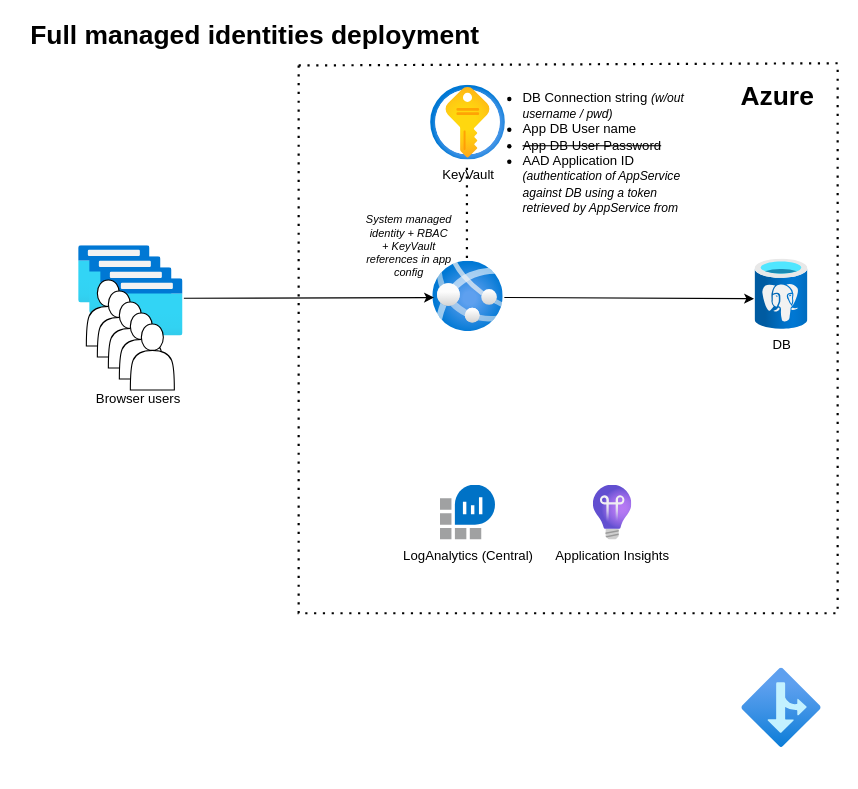
Image size: 858x789. Some labels were removed from this diagram. The centre of each missing label's shape, as x and y in pixels:
"GitHub Repo" belongs at pixel 781 707.
"WEB + API" belongs at pixel 467 296.
